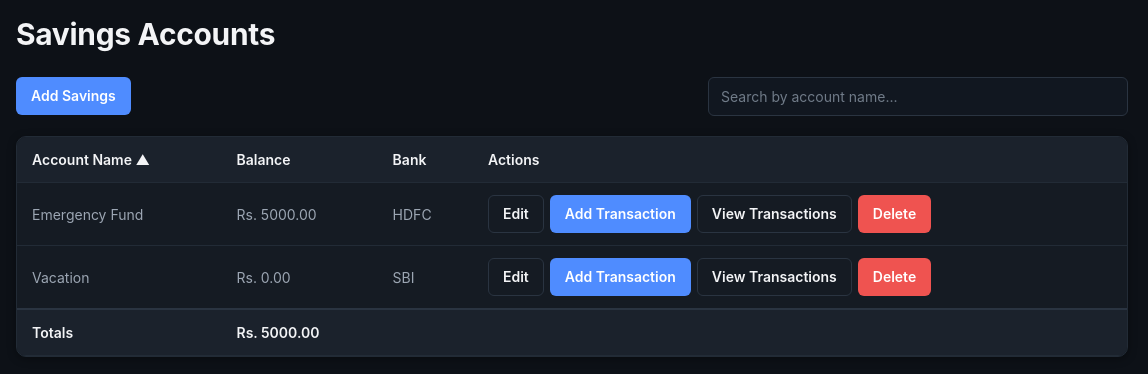
Savings page › savings list › search filters by account name
Expected: the heading "Savings Accounts" is shown, [16,16,275,52]
Expected: the cell "Emergency Fund" is shown, [17,182,222,246]
In the search field named "Search savings accounts by name": (918, 96) [708,77,1128,116], type "vac"
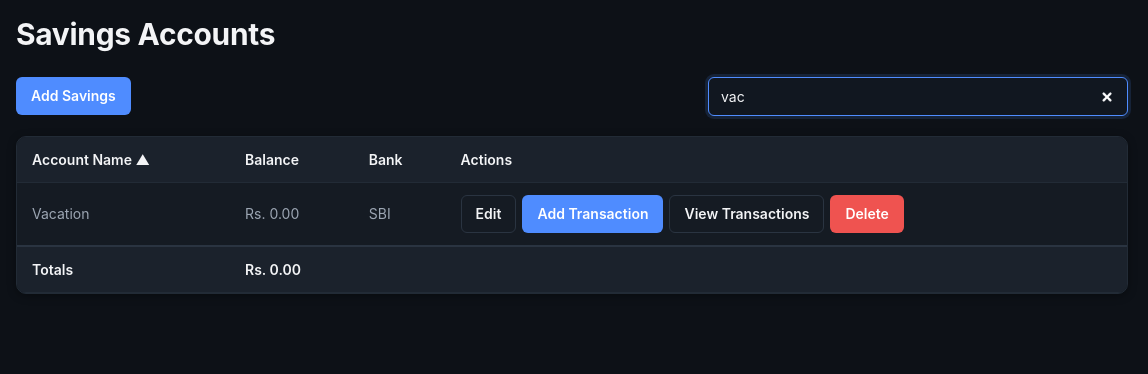
Expected: the cell "Vacation" is shown, [17,182,230,246]
Now the cell "Emergency Fund" is gone
Now the text "Rs. 0.00" next to "Totals" is shown, box [230,246,354,292]
